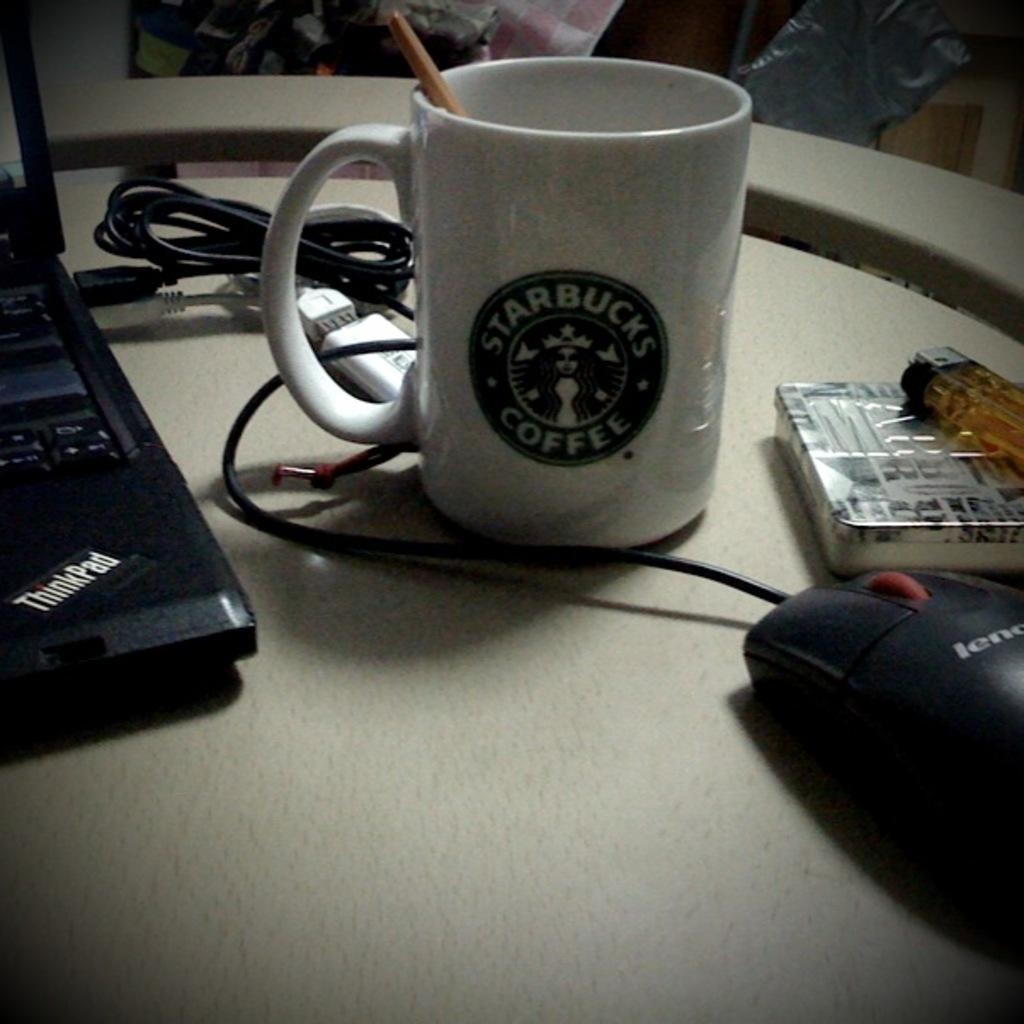Computer-mouse: (742, 561, 1022, 927)
